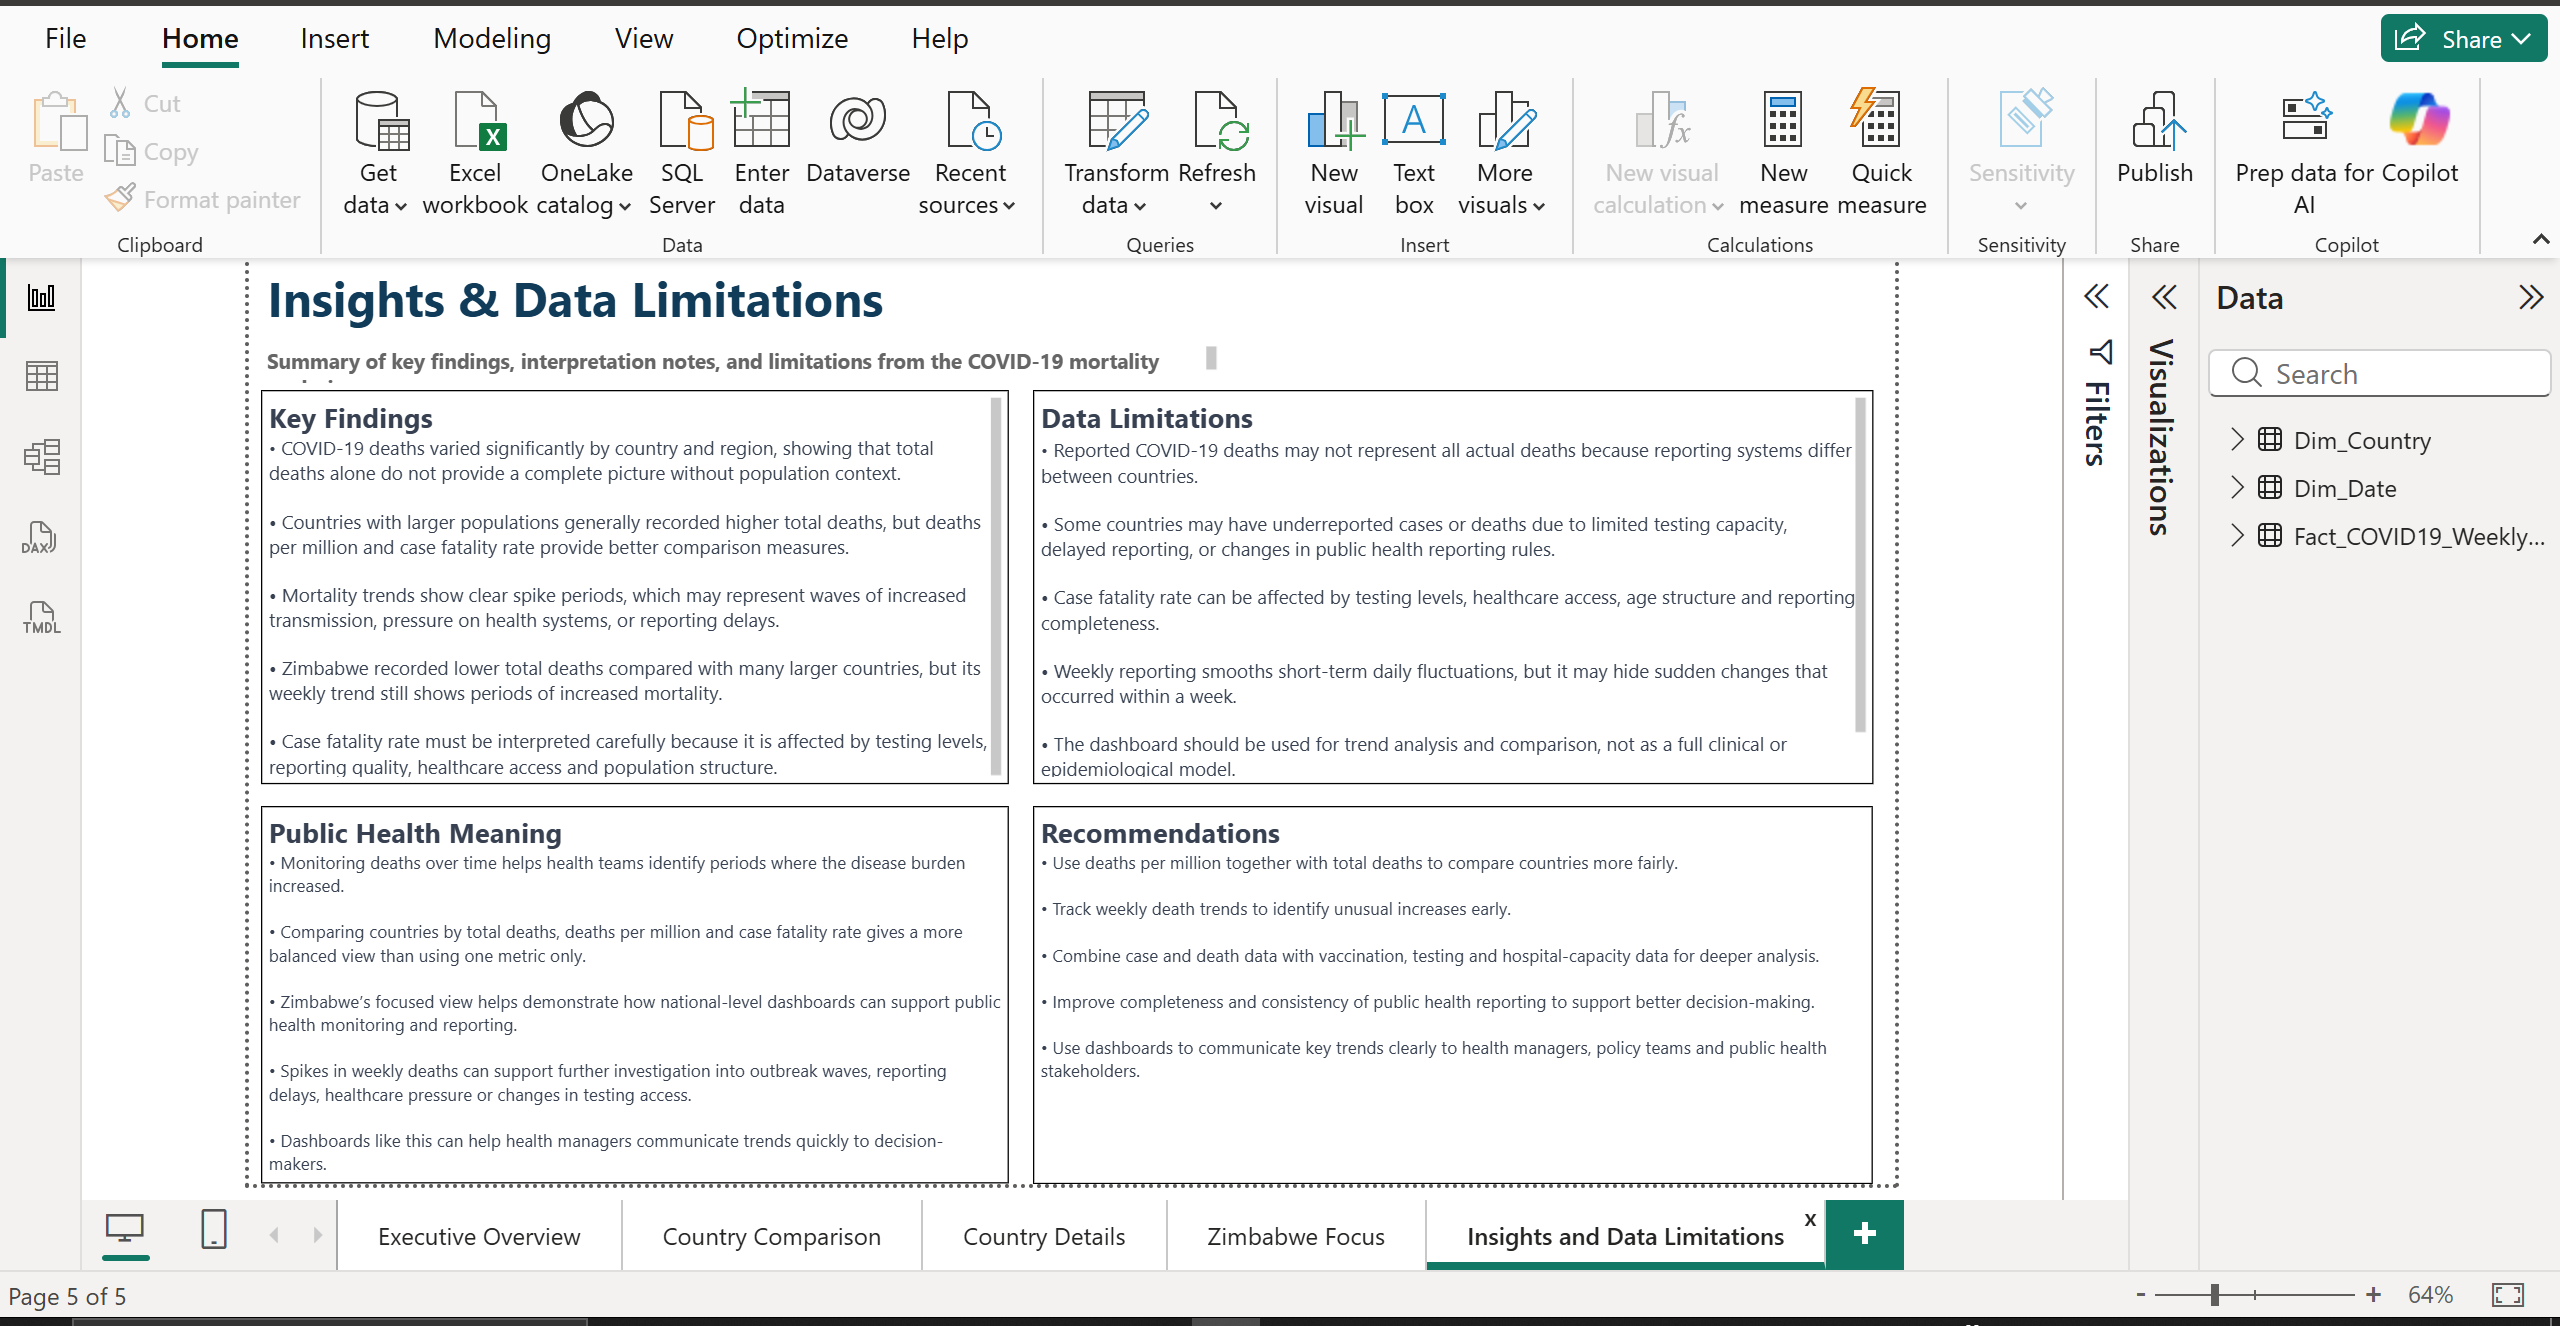

Layout of this report page (visuals, bound fields, positions):
{"tool":"powerbi","page":{"name":"Insights and Data Limitations","canvas":[1280,720],"ordinal":4},"visuals":[{"type":"textbox","box":[9.5,0,545.3,64.4],"z":0},{"type":"textbox","box":[9.5,64.4,747.9,37.9],"z":1000},{"type":"textbox","box":[9.5,426,581.3,293.5],"z":2000},{"type":"textbox","box":[609.7,102.2,653.3,306.7],"z":3000},{"type":"textbox","box":[610,426,653,294],"z":4000},{"type":"textbox","box":[9.5,102.2,581.3,306.7],"z":5000}]}

Visuals, with their boxes on the page's 1280x720 design canvas (x1, y1, x2, y2). These are canvas units, not pixel positions in the 2560x1326 screenshot, which may show the page scaled, cropped or inside an application window:
textbox: select_region(10, 0, 555, 64)
textbox: select_region(10, 64, 757, 102)
textbox: select_region(10, 426, 591, 720)
textbox: select_region(610, 102, 1263, 409)
textbox: select_region(610, 426, 1263, 720)
textbox: select_region(10, 102, 591, 409)
